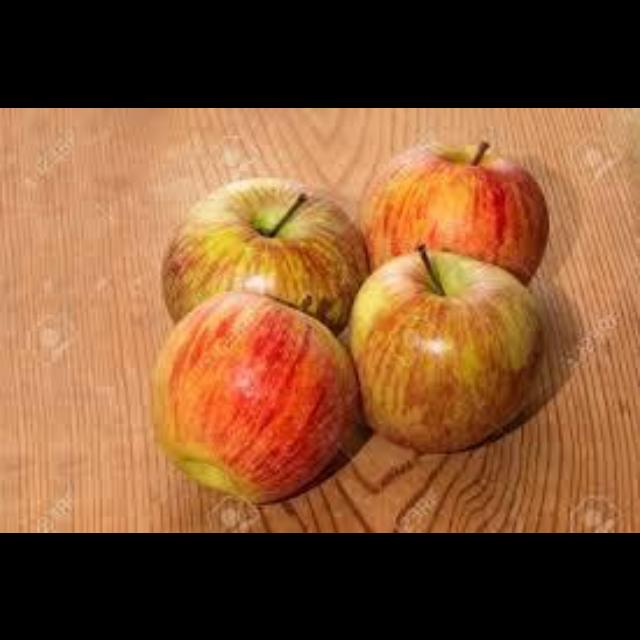apple: (151, 291, 356, 503), (347, 244, 542, 451), (161, 177, 368, 330), (358, 140, 547, 282)
